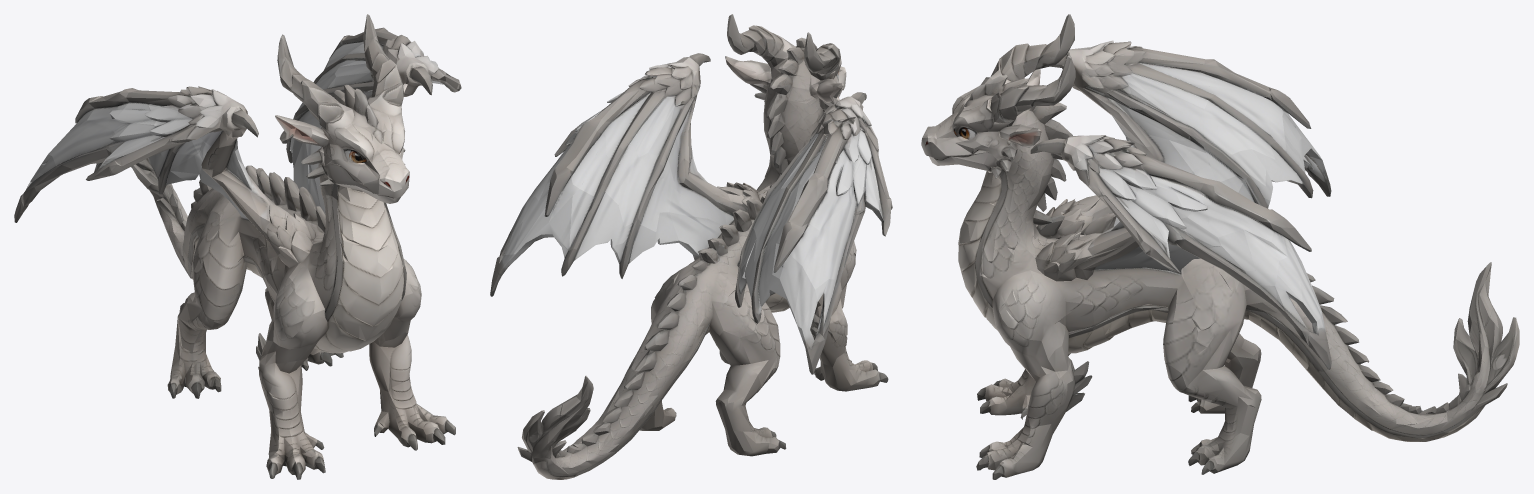
3 views of the same model, side by side, from view 1: azimuth 30°, elevation 25°; view 2: azimuth 150°, elevation 25°; view 3: azimuth 270°, elevation 25° (orthographic). The views are drawn at different scales.
Bounding box in the file's own units: 1.34 × 1.41 × 1.9.
1 material, 1 textured.
